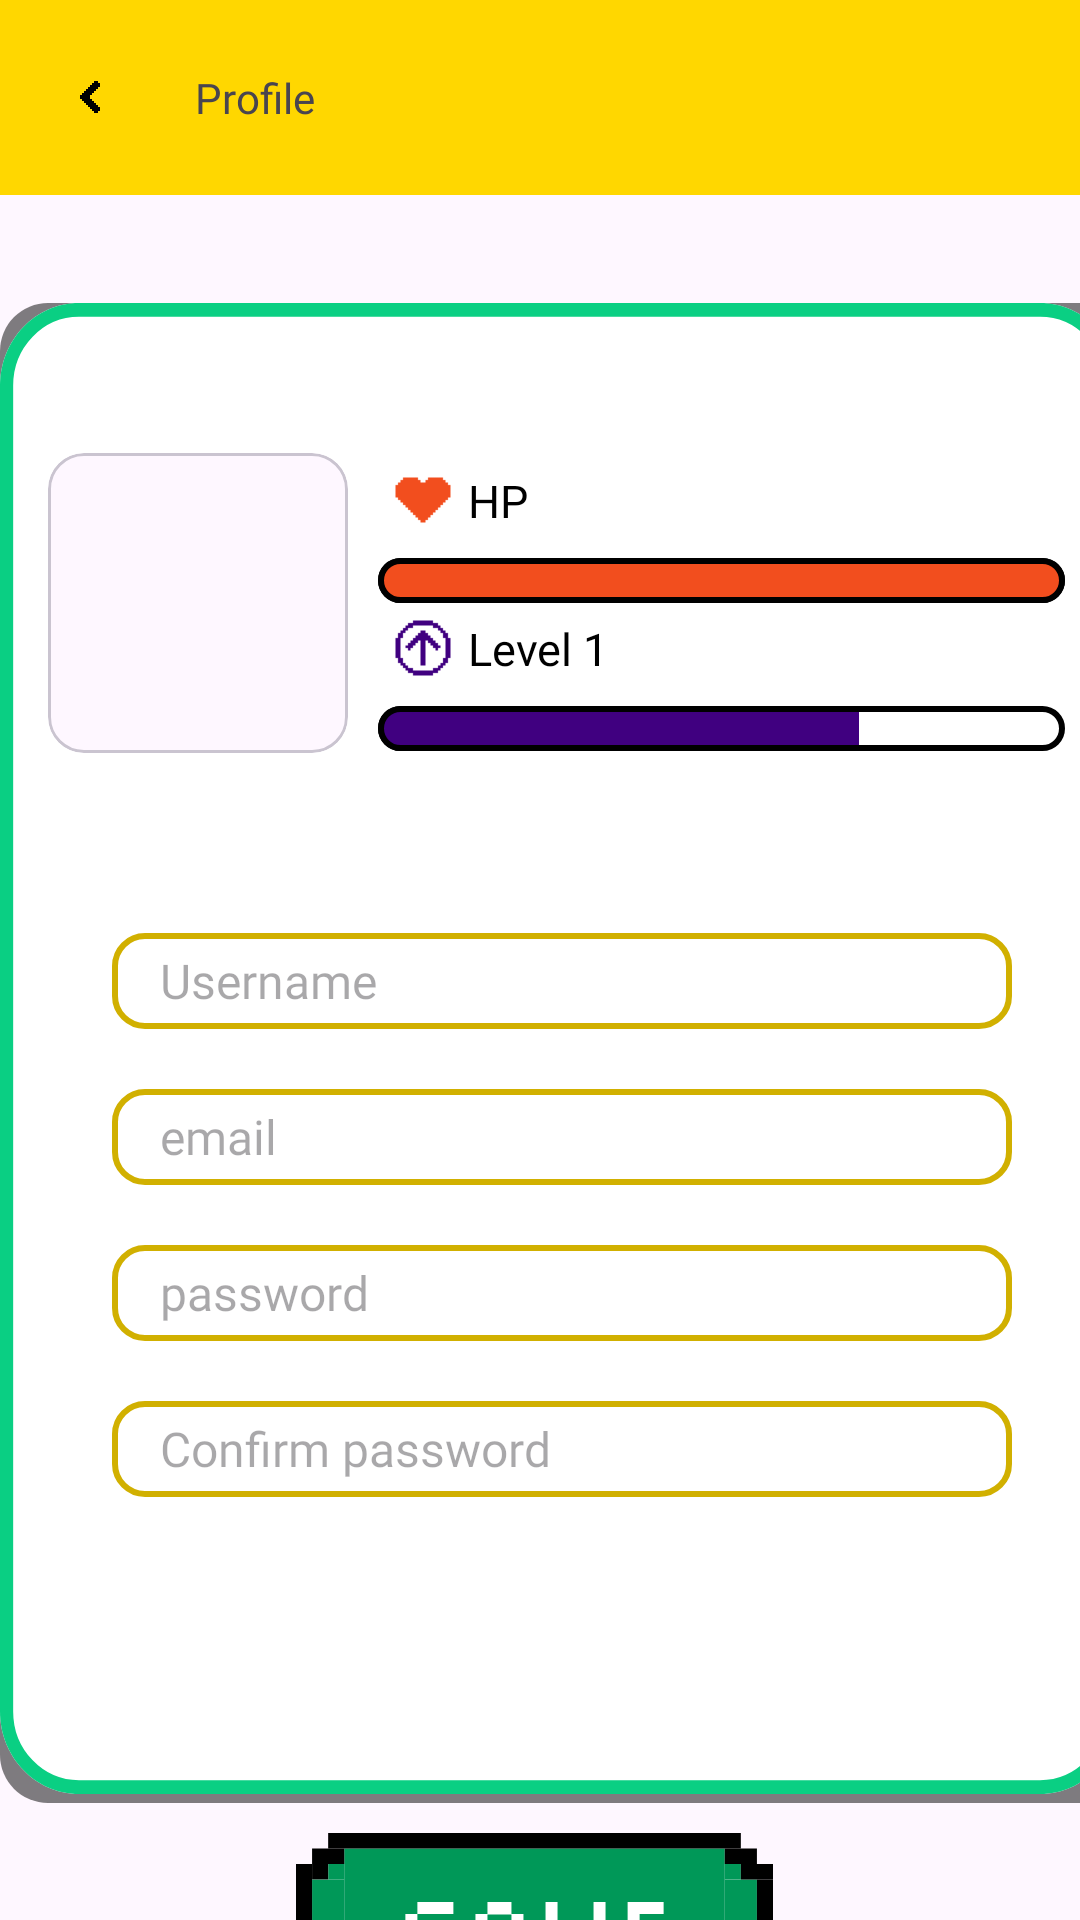

Where to tap for icons on this 1080px x 1920px app screen, as (x=x, y=y):
arrow circle up: (x=423, y=648)
backbtn: (x=90, y=97)
heart: (x=423, y=500)
